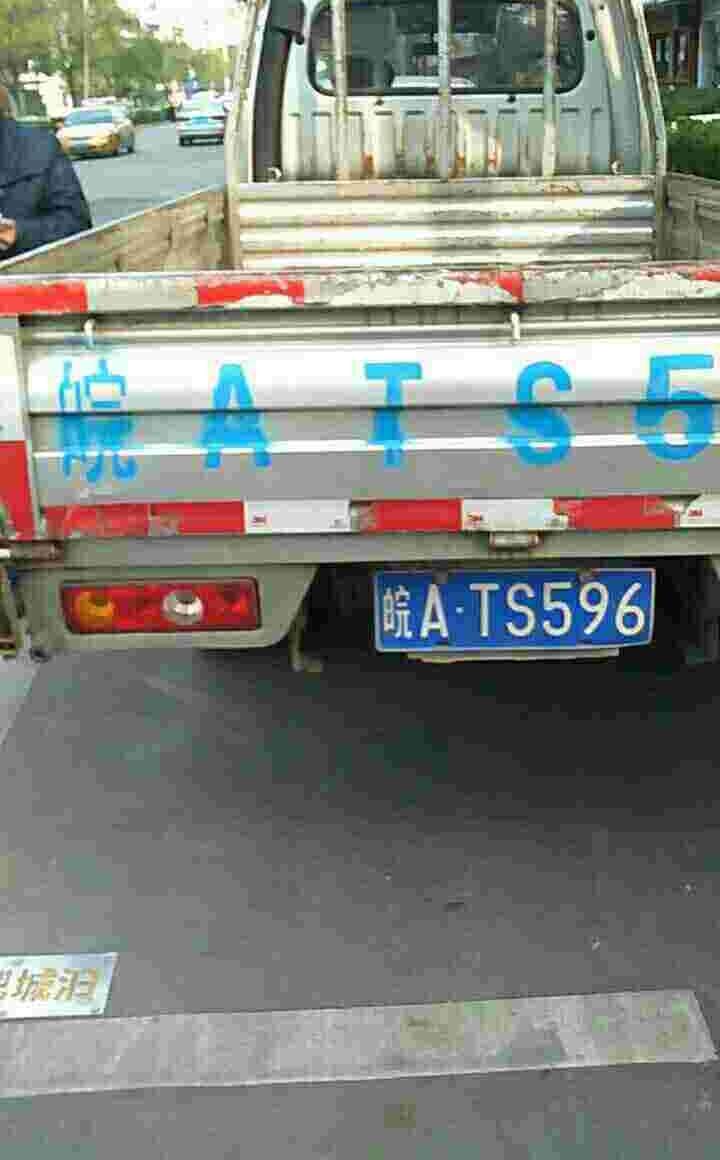car: (372, 569, 670, 642)
